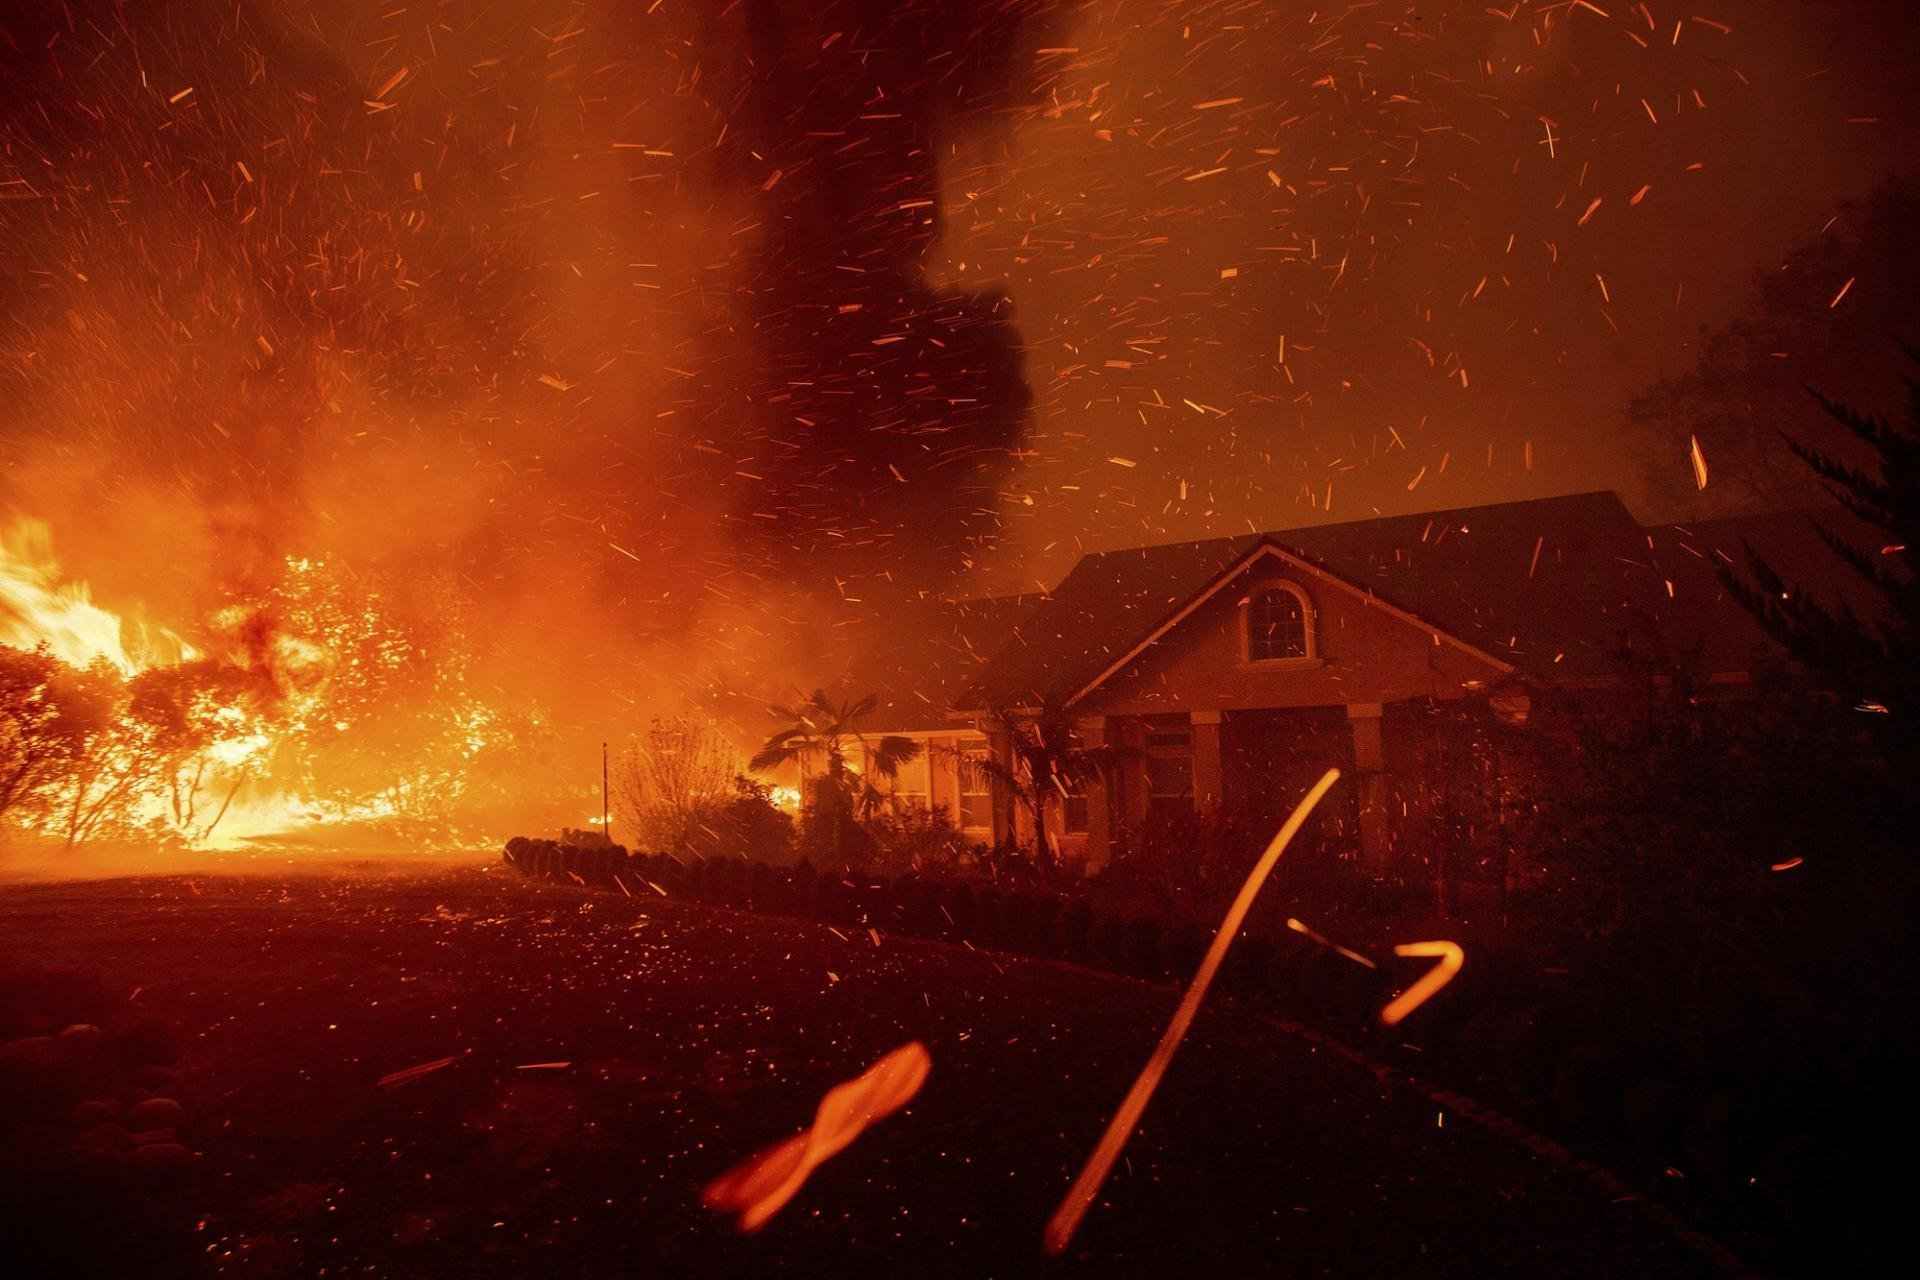fire: (6, 4, 1107, 930)
